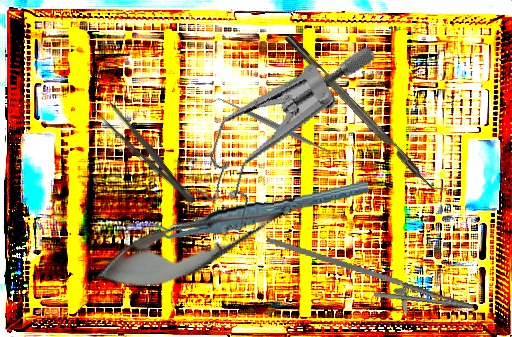Chopper: (284, 26, 449, 200)
Dressing Forceps: (88, 93, 202, 210)
Micro Scissor: (84, 173, 326, 308)
Needle Holder: (258, 236, 479, 327)
Spatula Surgical: (210, 89, 342, 164)
Speculum: (183, 9, 378, 266)
Tissue Forceps: (148, 179, 372, 242)
